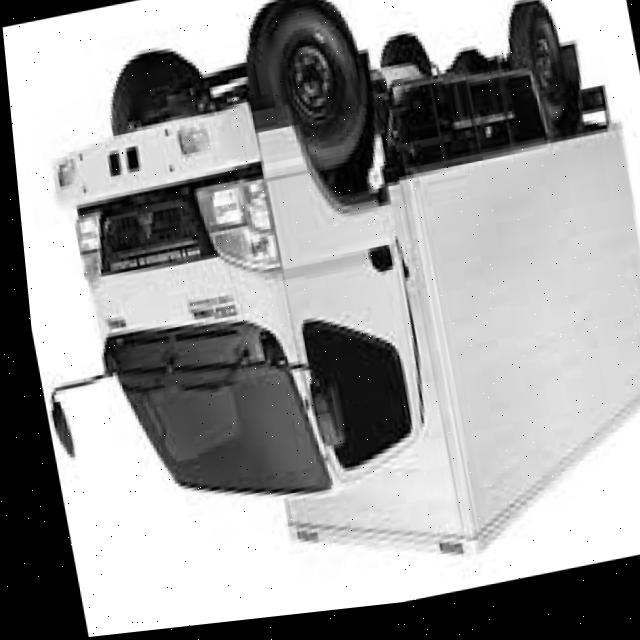truck: (8, 52, 454, 568)
